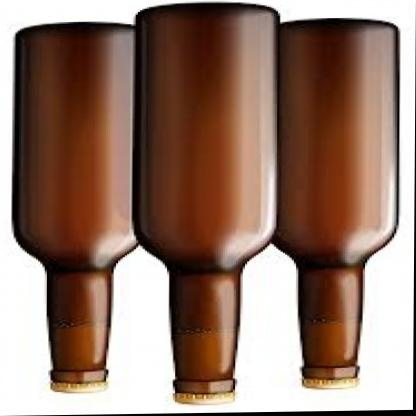trash: (0, 0, 414, 414), (10, 1, 400, 405), (134, 3, 278, 402), (274, 19, 397, 387), (13, 23, 135, 391)
